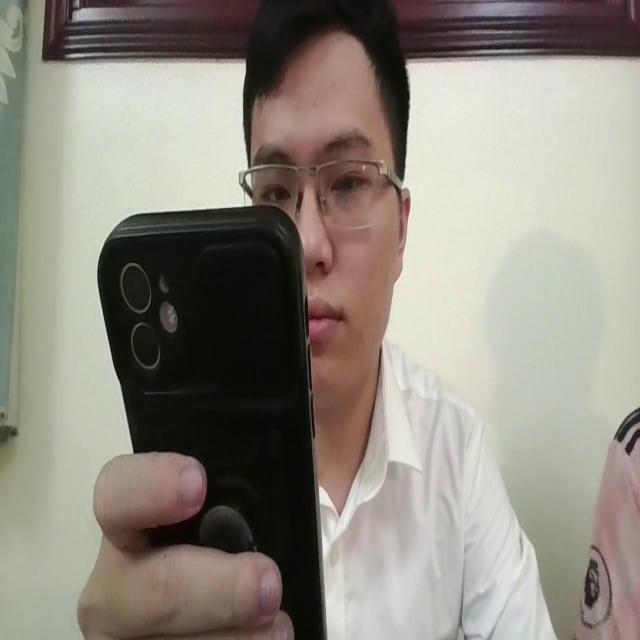phone: (94, 201, 328, 640)
student: (243, 15, 553, 640)
